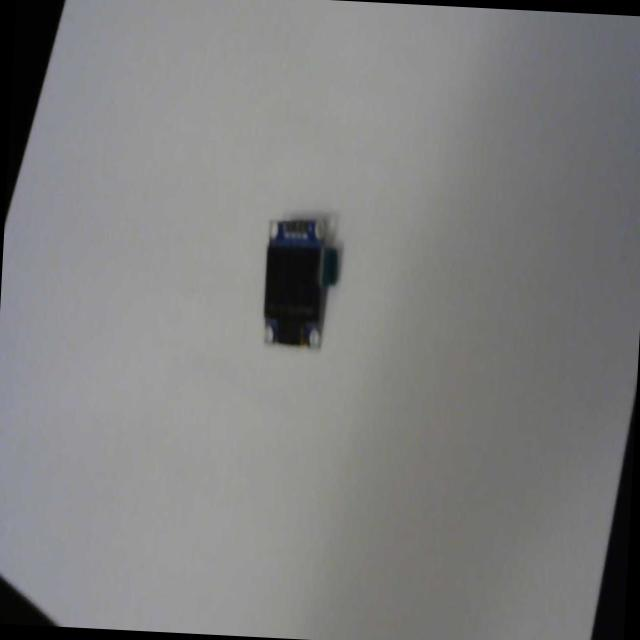oled: (255, 205, 348, 358)
